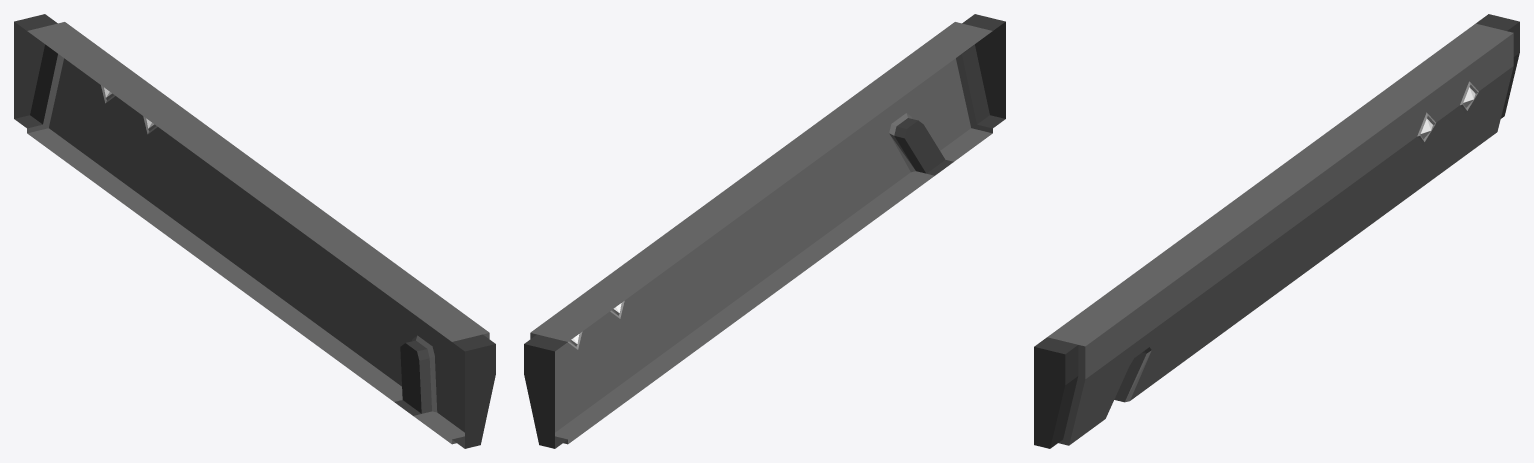
Rendered from wall_tech_A.FBX.
The picture shows the model from 3 angles, left to right: view 1: azimuth 30°, elevation 25°; view 2: azimuth 150°, elevation 25°; view 3: azimuth 330°, elevation 25°; orthographic projection.
Visible parts, largest first — view 1: wall_tech_A; view 2: wall_tech_A; view 3: wall_tech_A.
Boxes of the visible parts, x1,y1,x2,y2 form: wall_tech_A: (14, 14, 495, 448); wall_tech_A: (524, 14, 1005, 448); wall_tech_A: (1034, 14, 1519, 448).
Size of the model in its own units: 15.92 by 36.82 by 294.
